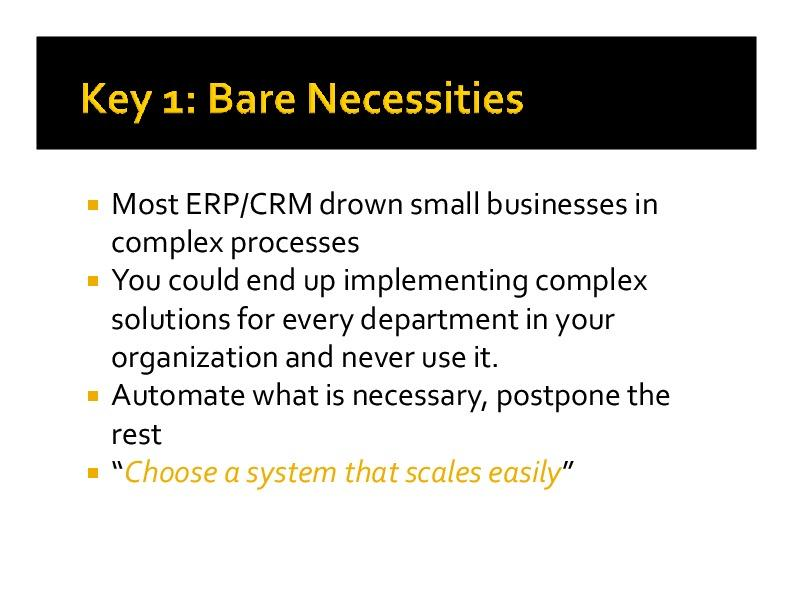paragraph: (102, 169, 714, 509)
title: (67, 73, 541, 124)
